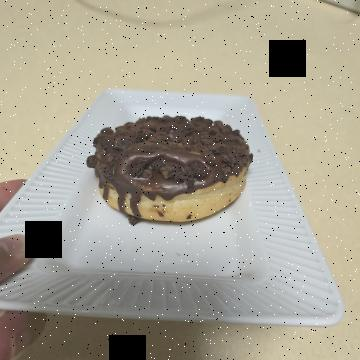doughnut: (110, 103, 246, 285)
